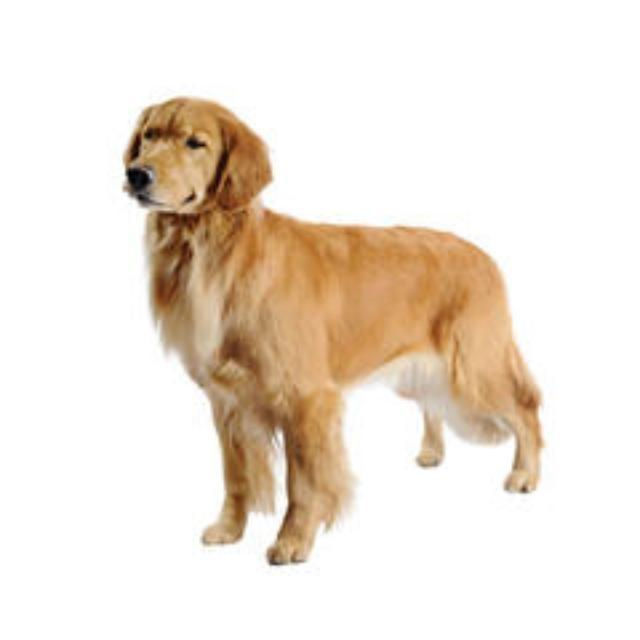dog: (103, 86, 571, 572)
